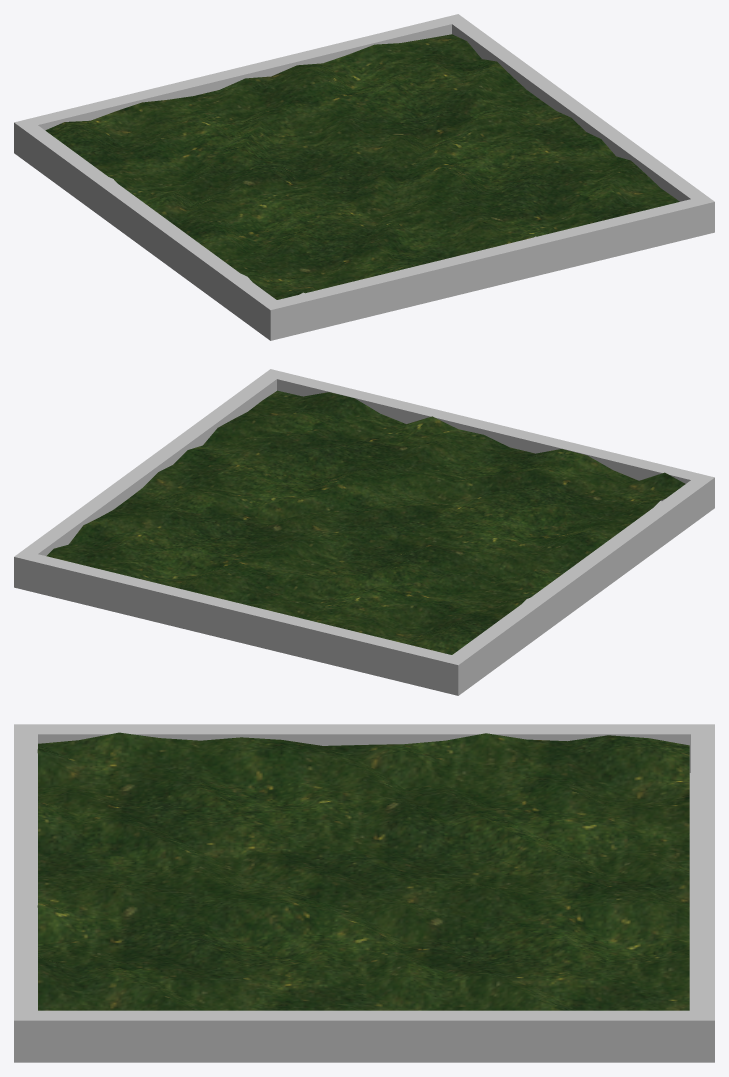
The model's file is MapAR8.obj.
3 renders of one model, top to bottom at view 1: azimuth 30°, elevation 25°; view 2: azimuth 150°, elevation 25°; view 3: azimuth 270°, elevation 25°, orthographic. The views are drawn at different scales.
Parts seen in each view (by area): view 1: Cube.001_Cube.002; view 2: Cube.001_Cube.002; view 3: Cube.001_Cube.002.
Boxes of the visible parts, x1,y1,x2,y2 form: Cube.001_Cube.002: (14, 14, 714, 340); Cube.001_Cube.002: (14, 369, 714, 695); Cube.001_Cube.002: (14, 724, 714, 1062).
Bounding box in the file's own units: 1.96 × 0.1448 × 1.96.
2 materials, 1 textured.
